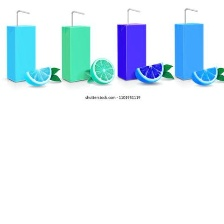carton: (172, 20, 206, 81), (115, 22, 149, 81), (6, 22, 38, 82), (59, 23, 90, 83)
drinking_straw: (67, 7, 88, 27), (180, 5, 200, 24), (12, 6, 31, 26), (124, 6, 143, 24)
